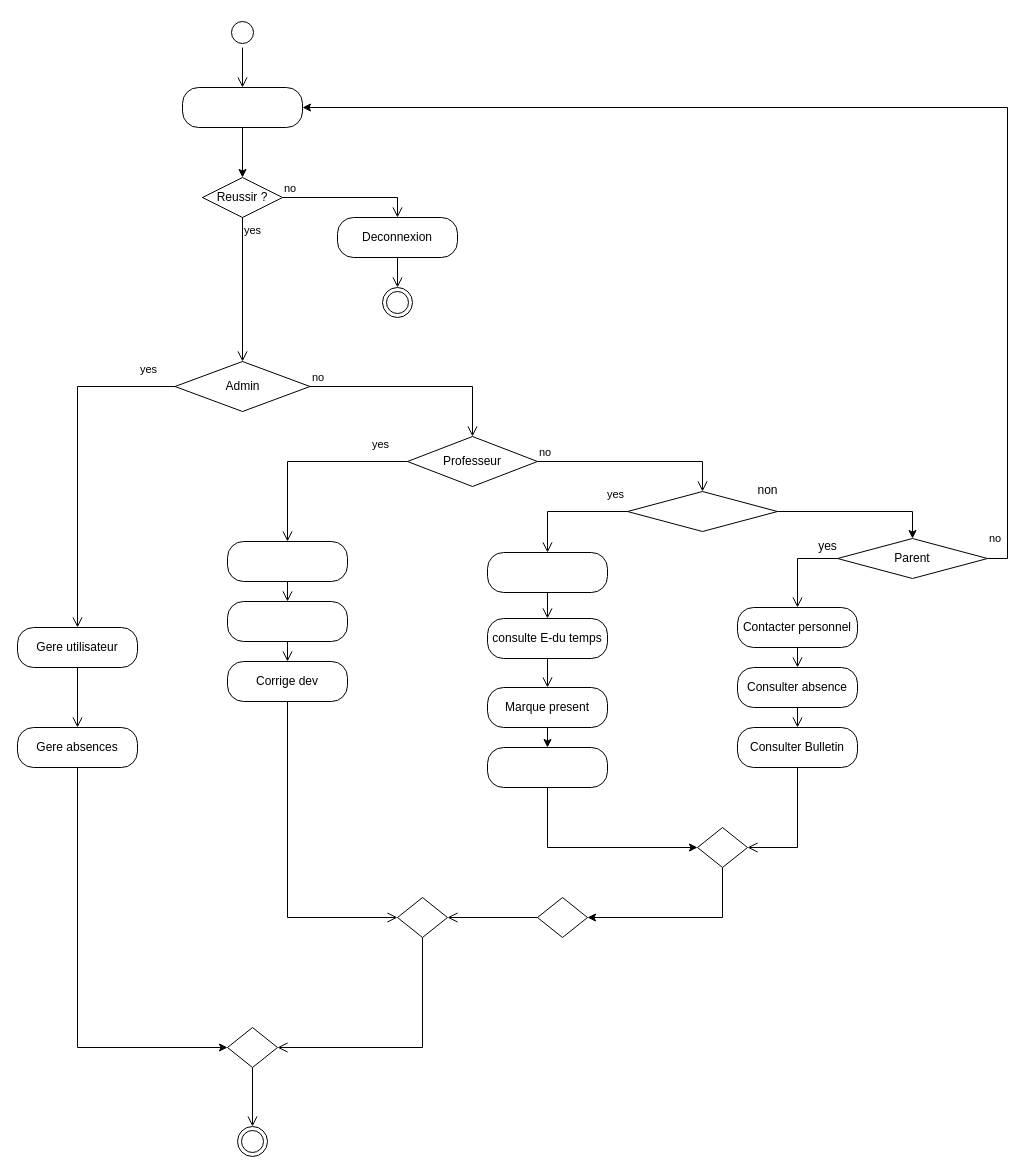
Some shapes in this 1033 by 1174 pixel diagram are drawn without their labels. Each missing label, with the centre of its shape:
"connexion utilisateur" goes at point 242,107.
"Consulter Moyen" goes at point 547,767.
"Consulter notes" goes at point 547,572.
"Eleve" goes at point 702,511.
"Planifier cours" goes at point 287,621.
"saisir note" goes at point 287,561.
